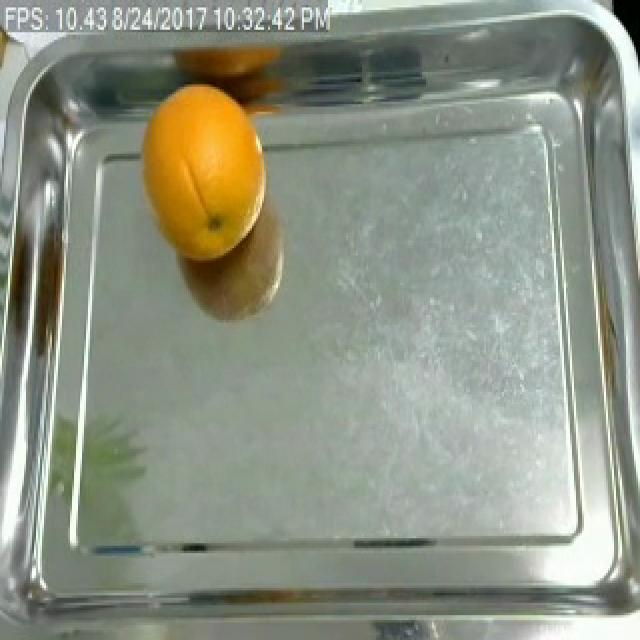Fruit: (130, 77, 272, 258)
